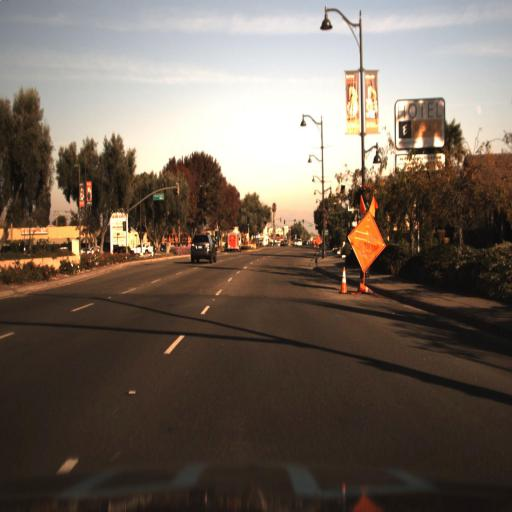car: (186, 227, 218, 265), (86, 235, 109, 260), (127, 240, 152, 258), (129, 241, 158, 256), (224, 234, 240, 253)
